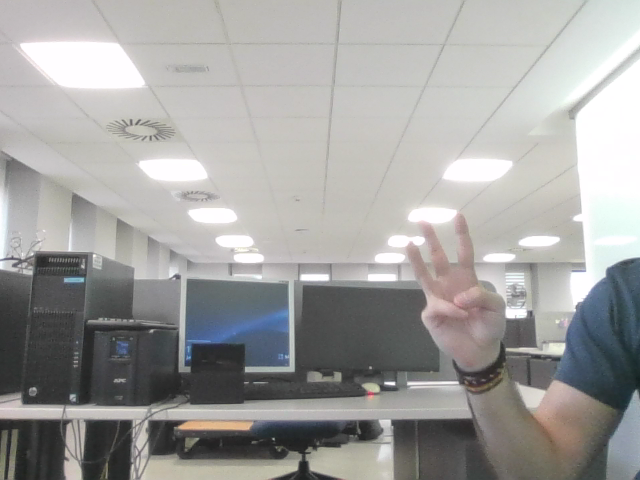3Dedos: (414, 224, 493, 324)
